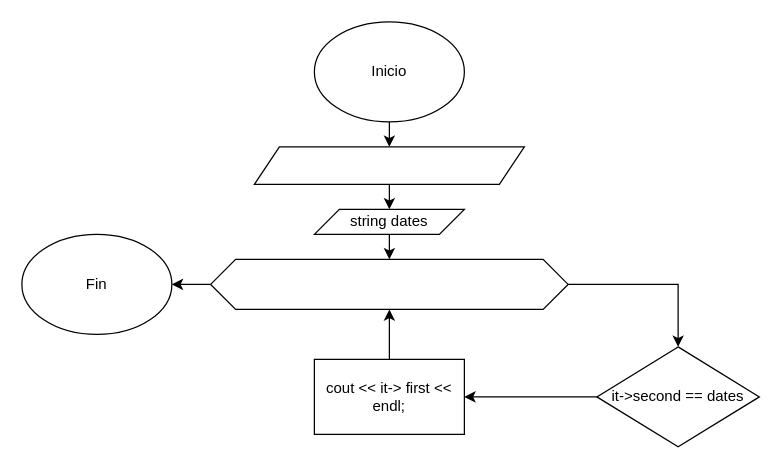
The diagram is 781 pixels wide and 469 high, and some of its shapes have lost their labels. Each missing label, with the box of its shape:
auto it = events.begin(); it != events.end(); ++it: (209, 258, 568, 309)
map<string, string> :: iterator it ;: (253, 146, 524, 184)
